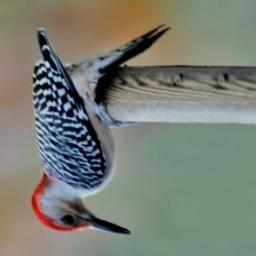Woodpecker: (16, 9, 181, 245)
